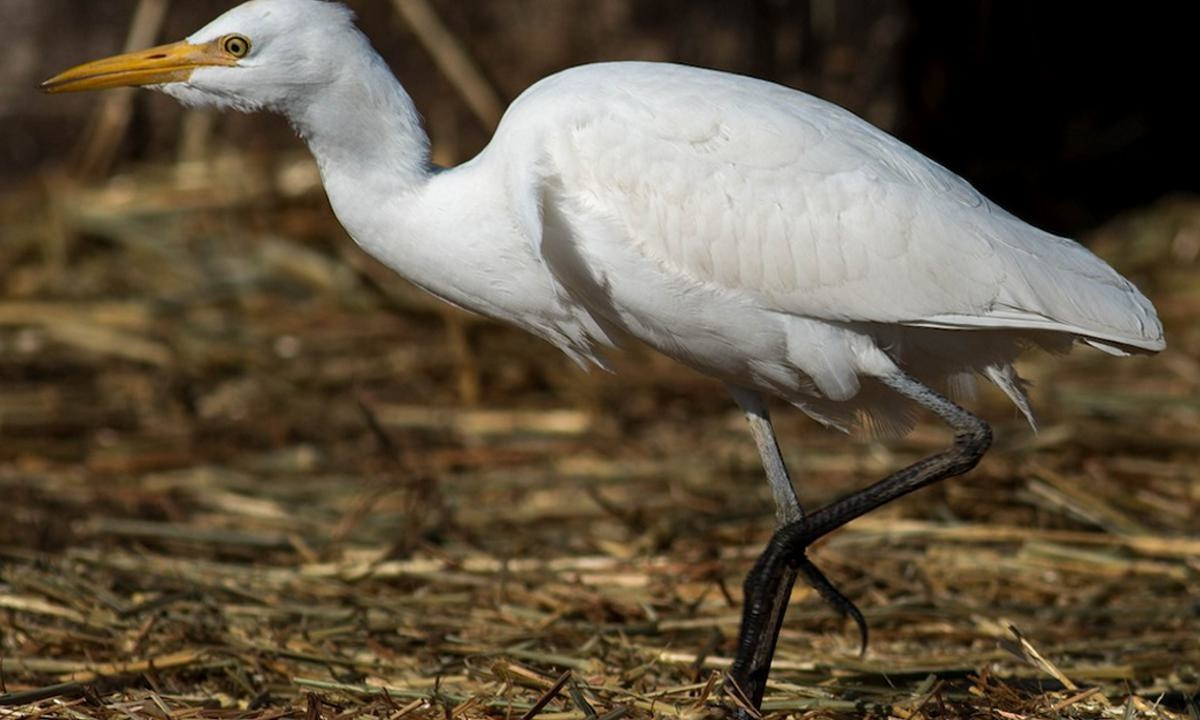egret: (41, 12, 1146, 625)
